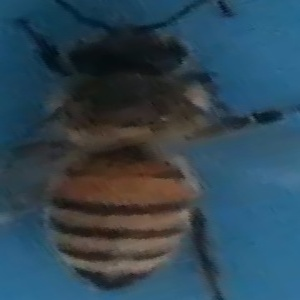bee: (8, 2, 287, 299)
